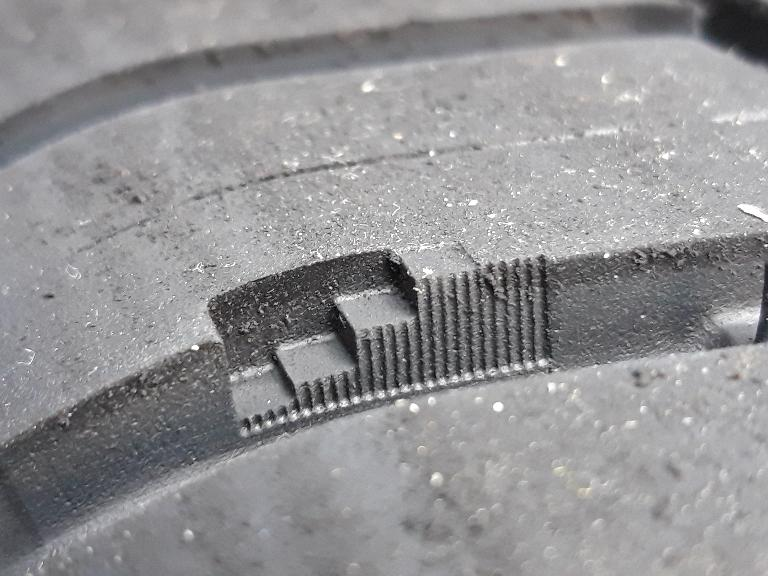temoin:75: (187, 229, 506, 453)
